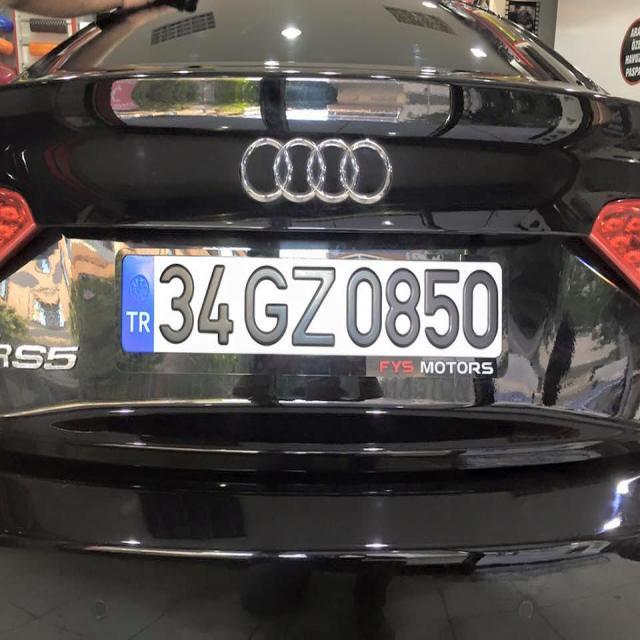plate: (115, 251, 510, 378)
